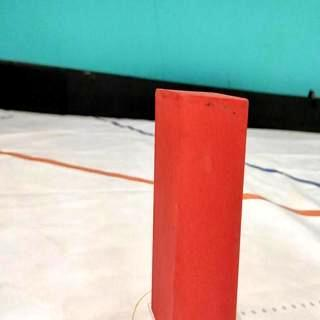redbox: (152, 89, 248, 320)
